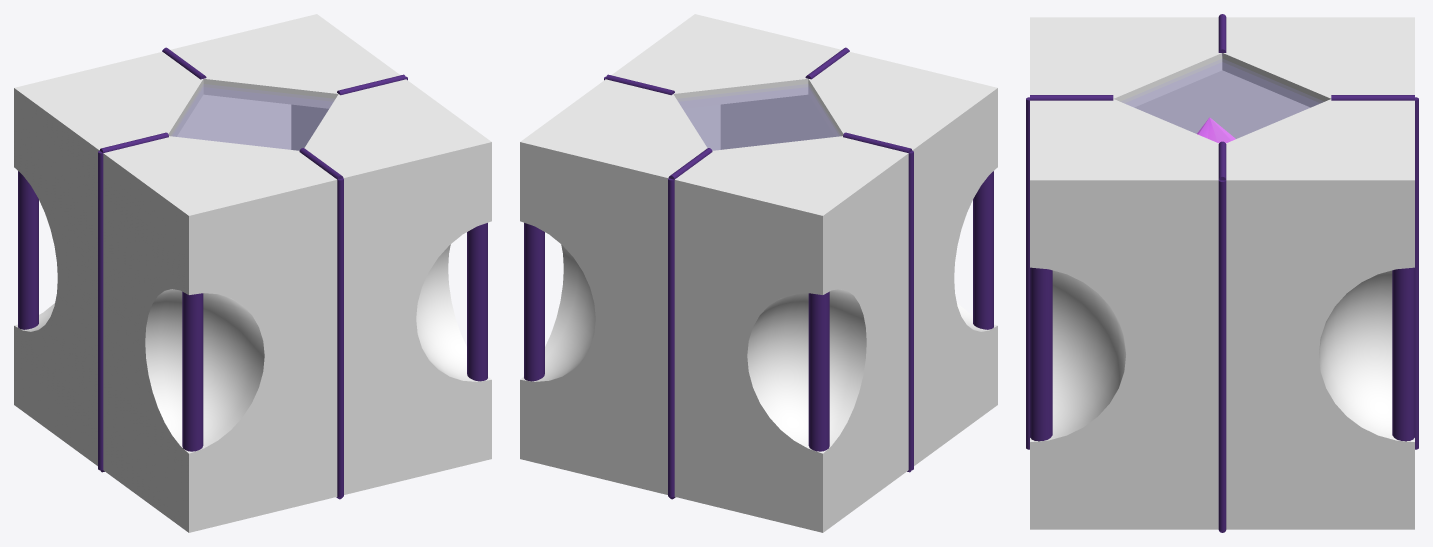
File: Cubo Restaurador.FBX
The picture shows the model from 3 angles, left to right: view 1: azimuth 30°, elevation 25°; view 2: azimuth 150°, elevation 25°; view 3: azimuth 270°, elevation 25°; orthographic projection. The views are drawn at different scales.
Visible parts, largest first — view 1: Box002, Cylinder074, Cylinder060, Cylinder058, Cylinder059, Cylinder063, Cylinder062; view 2: Box002, Cylinder074, Cylinder059, Cylinder057, Cylinder060, Cylinder064, Cylinder062; view 3: Box002, Cylinder074, Cylinder057, Cylinder058, Cylinder061, Cylinder063, Cylinder064, Spindle004, Cylinder067, Cylinder068.
Boxes of the visible parts, box(x1,y1,x2,y2) form: Box002: box(14, 14, 491, 532); Cylinder074: box(172, 87, 333, 150); Cylinder060: box(182, 291, 203, 451); Cylinder058: box(467, 223, 487, 381); Cylinder059: box(18, 171, 38, 329); Cylinder063: box(337, 178, 343, 497); Cylinder062: box(98, 150, 103, 470); Box002: box(520, 14, 997, 532); Cylinder074: box(678, 87, 839, 150); Cylinder059: box(808, 291, 829, 451); Cylinder057: box(524, 223, 544, 381); Cylinder060: box(973, 171, 993, 329); Cylinder064: box(668, 178, 674, 497); Cylinder062: box(908, 150, 913, 470); Box002: box(1030, 17, 1414, 529); Cylinder074: box(1125, 62, 1319, 142); Cylinder057: box(1392, 267, 1414, 441); Cylinder058: box(1030, 267, 1052, 441); Cylinder061: box(1218, 180, 1226, 530); Cylinder063: box(1026, 97, 1029, 449); Cylinder064: box(1415, 97, 1418, 449); Spindle004: box(1197, 117, 1235, 143); Cylinder067: box(1030, 95, 1113, 100); Cylinder068: box(1331, 95, 1414, 100).
Bounding box in the file's own units: 40.16 × 40.16 × 40.16.
Materials: 19 (17 with a texture image).
